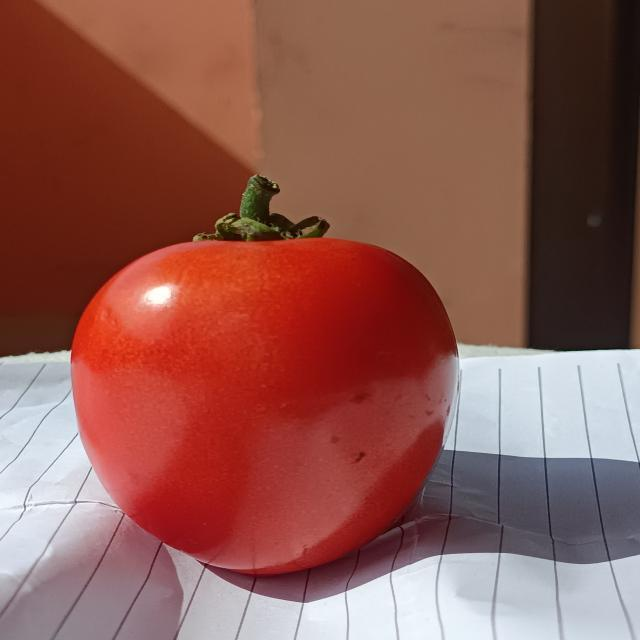Masak: (47, 187, 489, 589)
